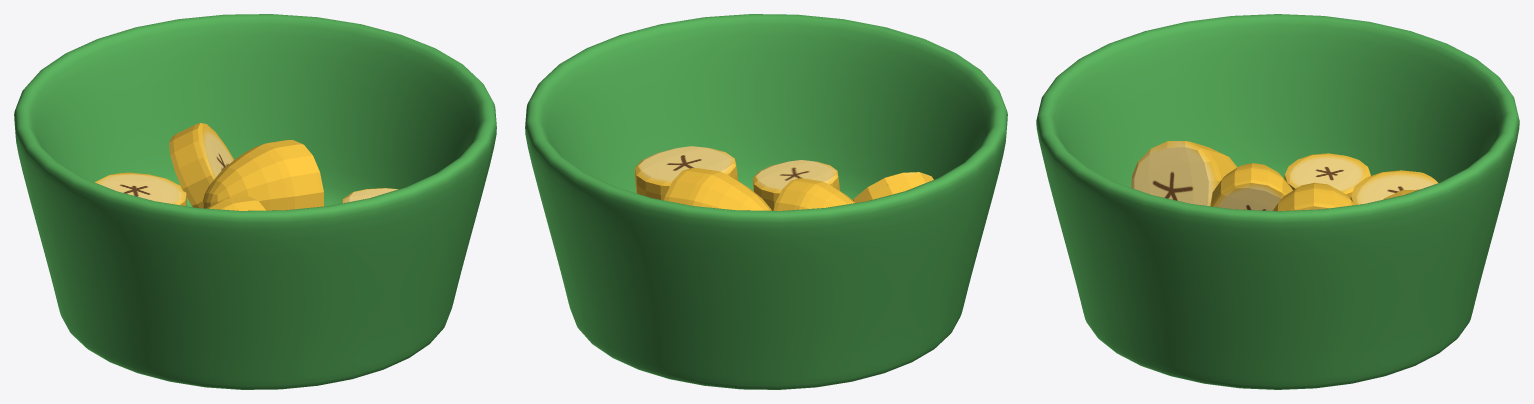
The model's file is BolPlatano.fbx.
3 views of the same model, side by side, from view 1: azimuth 30°, elevation 25°; view 2: azimuth 150°, elevation 25°; view 3: azimuth 270°, elevation 25° (orthographic).
Parts seen in each view (by area): view 1: Plátanos cortados.002; view 2: Plátanos cortados.002; view 3: Plátanos cortados.002.
Part boxes in pixels (x1,y1,x2,y2): Plátanos cortados.002: (14,14,496,389); Plátanos cortados.002: (525,14,1007,389); Plátanos cortados.002: (1036,14,1519,389).
Bounding box in the file's own units: 4.12 × 1.84 × 4.12.
